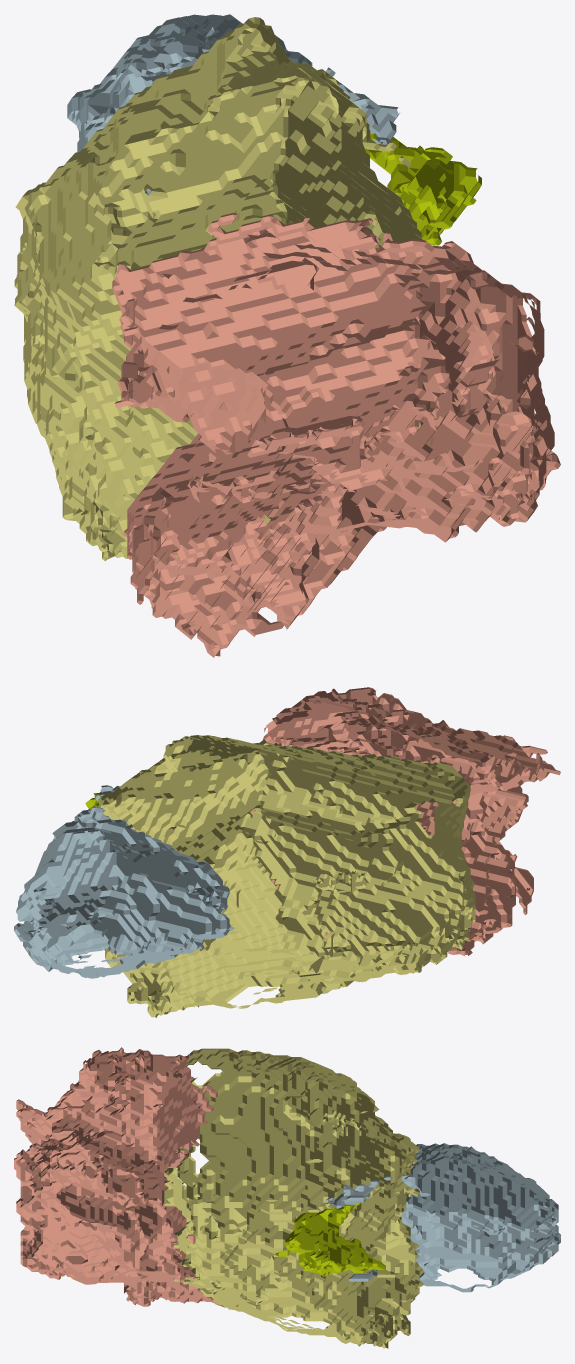
File: brainstemSsLabels.glb
3 views of the same model, one above another, from view 1: azimuth 30°, elevation 25°; view 2: azimuth 150°, elevation 25°; view 3: azimuth 270°, elevation 25° (orthographic). The views are drawn at different scales.
Parts seen in each view (by area): view 1: 173_Midbrain, 174_Pons, 175_Medulla, 178_SCP; view 2: 174_Pons, 175_Medulla, 173_Midbrain; view 3: 174_Pons, 173_Midbrain, 175_Medulla, 178_SCP.
Part boxes in pixels (x1,y1,x2,y2): 173_Midbrain: (112,212,560,657); 174_Pons: (14,17,440,561); 175_Medulla: (67,14,399,251); 178_SCP: (364,133,481,245); 174_Pons: (98,735,475,1017); 175_Medulla: (14,785,234,978); 173_Midbrain: (251,687,560,956); 174_Pons: (160,1048,423,1348); 173_Midbrain: (14,1047,224,1307); 175_Medulla: (326,1143,560,1292); 178_SCP: (274,1202,385,1276).
Bounding box in the file's own units: 42 × 31 × 61.
